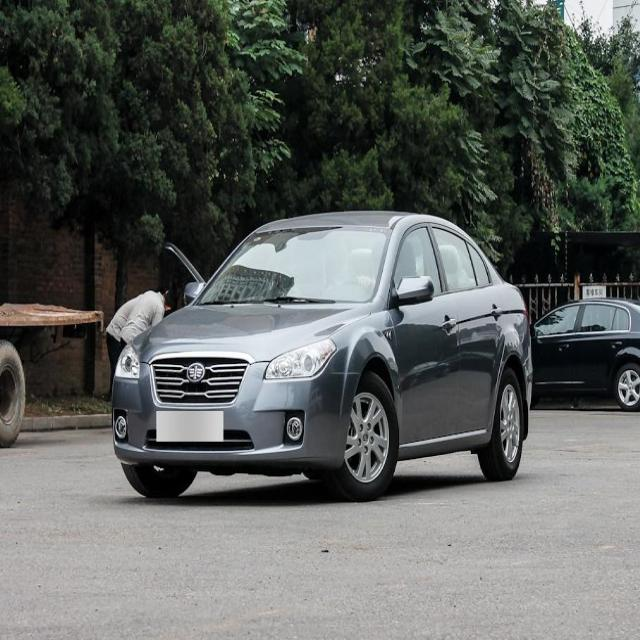door: (431, 225, 502, 435)
front_bumper: (110, 360, 360, 466)
front_glass: (194, 223, 393, 306)
front_left_side_door: (385, 221, 462, 451)
front_left_side_light: (263, 336, 338, 382)
front_left_side_mirror: (389, 274, 435, 311)
front_right_side_light: (113, 340, 144, 380)
front_right_side_mirror: (185, 281, 204, 303)
wheel: (324, 369, 399, 499), (476, 370, 522, 482), (119, 462, 200, 498)
